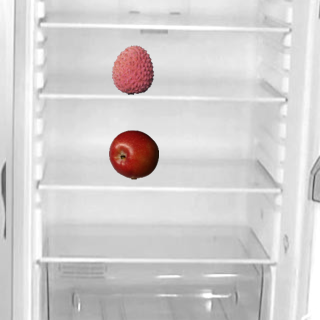Apple Braeburn: (108, 129, 158, 179)
Lychee: (107, 44, 157, 94)
